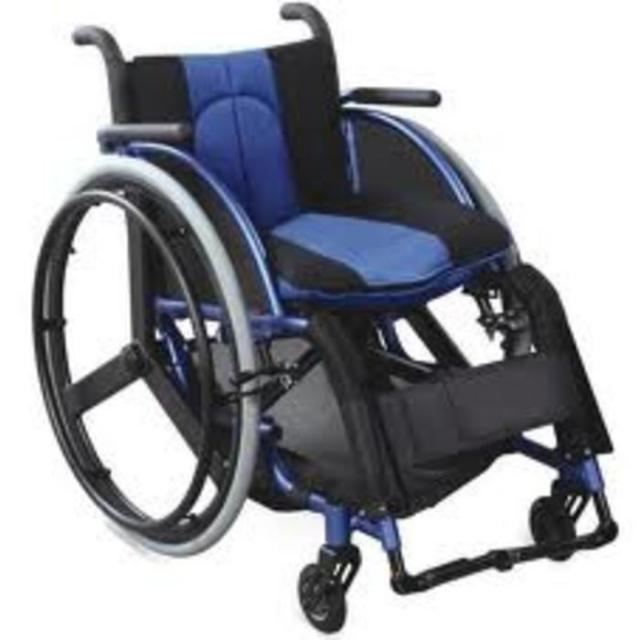wheelchair: (24, 0, 623, 640)
